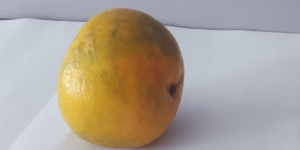BAD: (57, 10, 190, 150)
